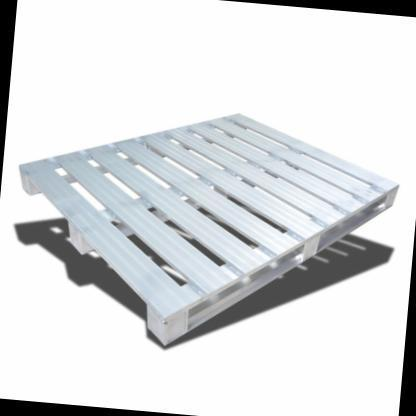pallet: (18, 109, 398, 345)
